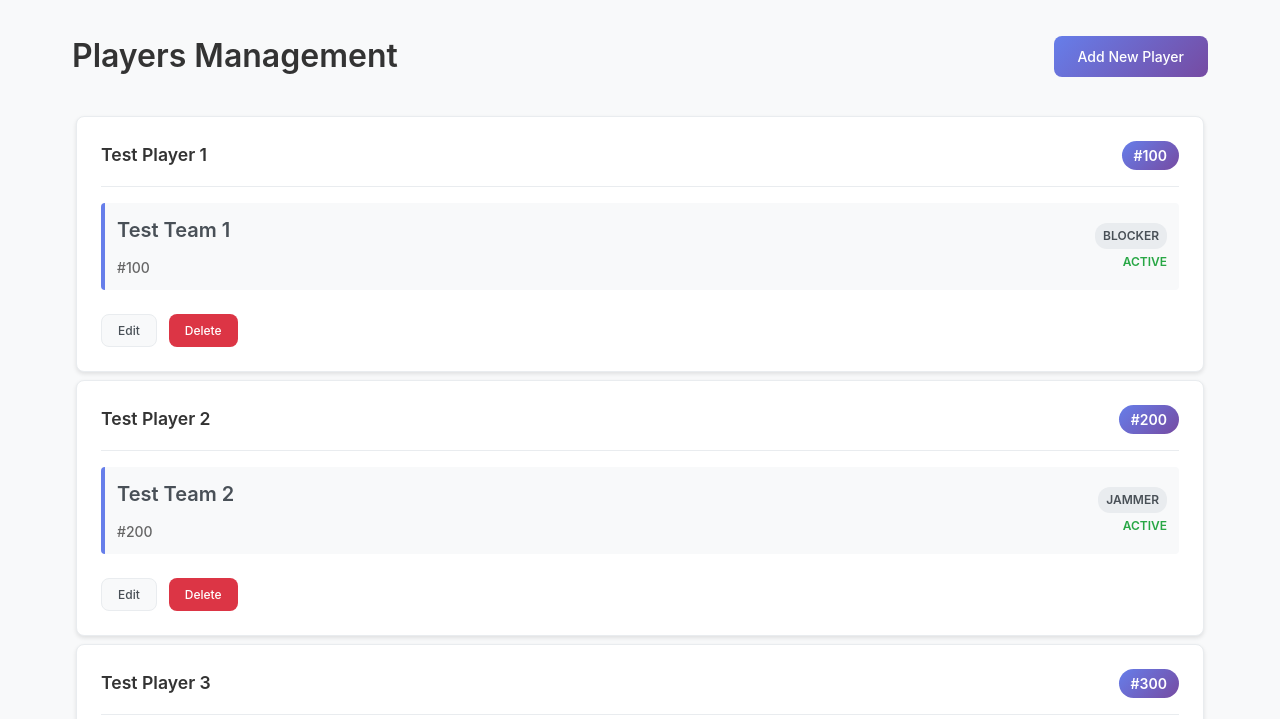
Test: Players Component › edits an existing player
The image size is (1280, 719).
Step 1. Click the button "Edit" below "Test Player 1" → (129, 330), box x1=101 y1=314 x2=157 y2=347
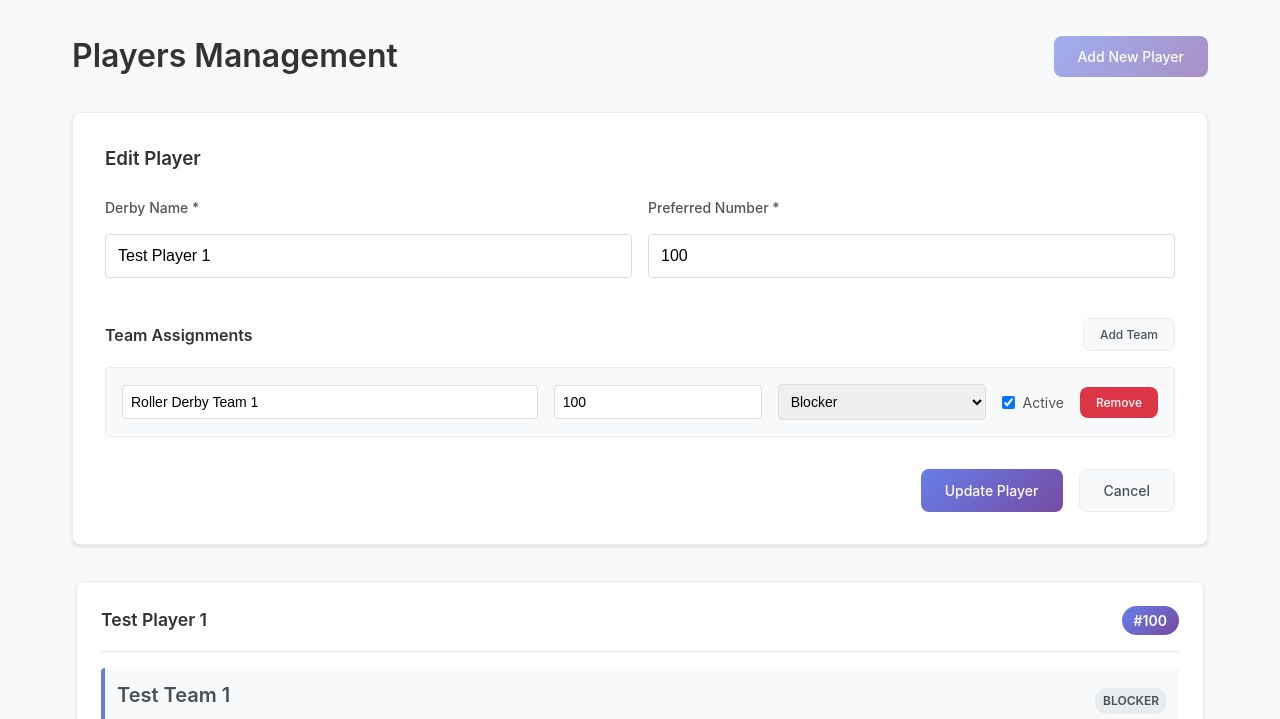
Expected: the field labelled "Derby Name *" is shown, x1=105 y1=234 x2=632 y2=278
Expected: the button "Update Player" is shown, x1=921 y1=469 x2=1062 y2=512
